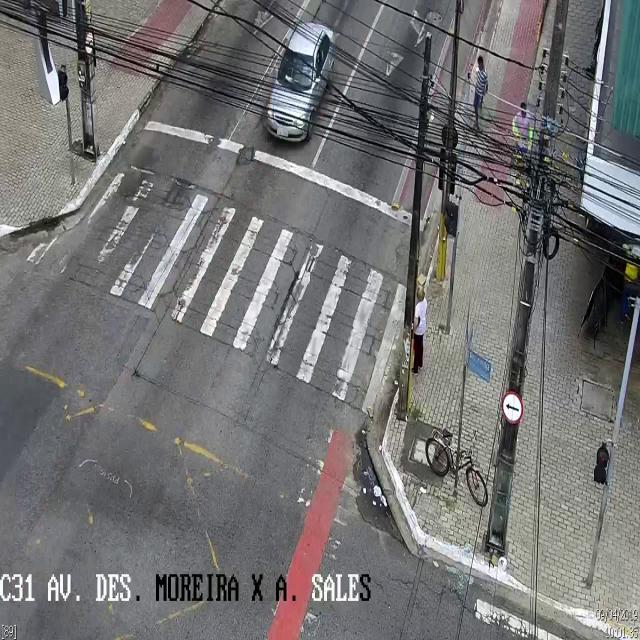Car: (267, 16, 335, 144)
